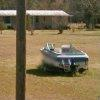Boat: (32, 26, 89, 77)
